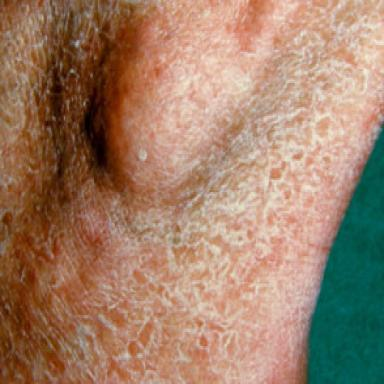eczema: (0, 2, 384, 381)
